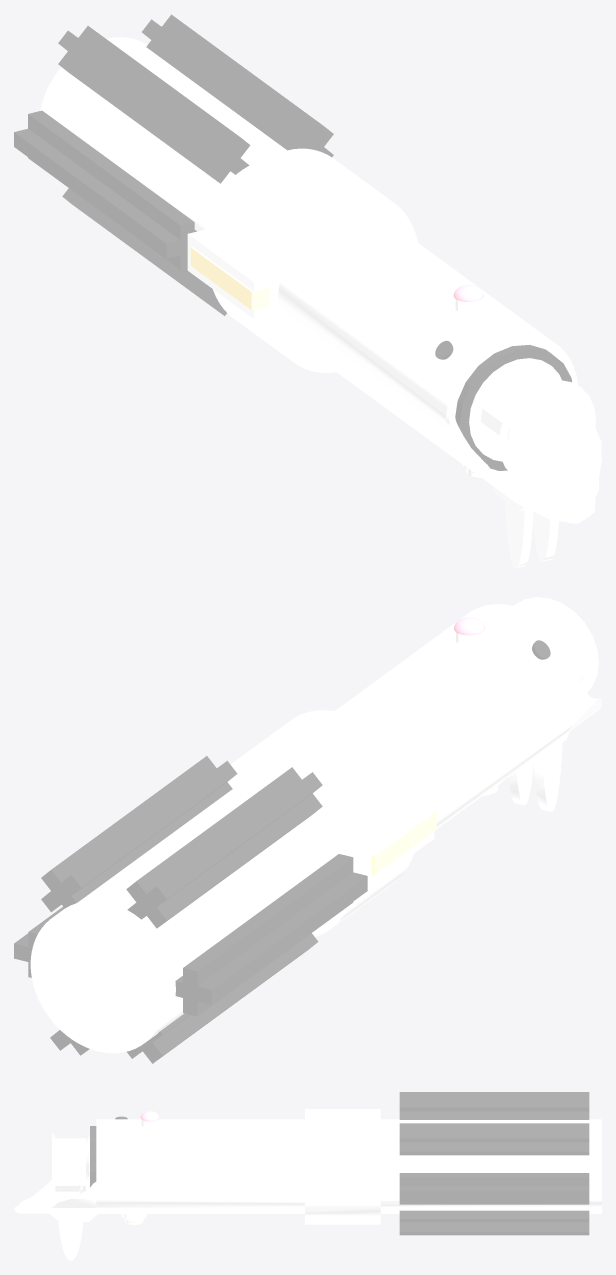
The picture shows the model from 3 angles, top to bottom: view 1: azimuth 30°, elevation 25°; view 2: azimuth 150°, elevation 25°; view 3: azimuth 270°, elevation 25°; orthographic projection. The views are drawn at different scales.
Parts seen in each view (by area): view 1: group_0_12568524, group_0_2829873, group_0_12291362; view 2: group_0_12568524, group_0_2829873, group_0_12291362; view 3: group_0_12568524, group_0_2829873.
Part boxes in pixels (bbox=[...]): group_0_12568524: bbox=[40, 37, 601, 568]; group_0_2829873: bbox=[14, 14, 571, 470]; group_0_12291362: bbox=[190, 247, 270, 310]; group_0_12568524: bbox=[30, 597, 601, 1053]; group_0_2829873: bbox=[14, 640, 550, 1063]; group_0_12291362: bbox=[372, 810, 436, 875]; group_0_12568524: bbox=[14, 1109, 601, 1260]; group_0_2829873: bbox=[90, 1092, 589, 1235].
Size of the model in its own units: 0.22 by 0.26 by 0.93.
